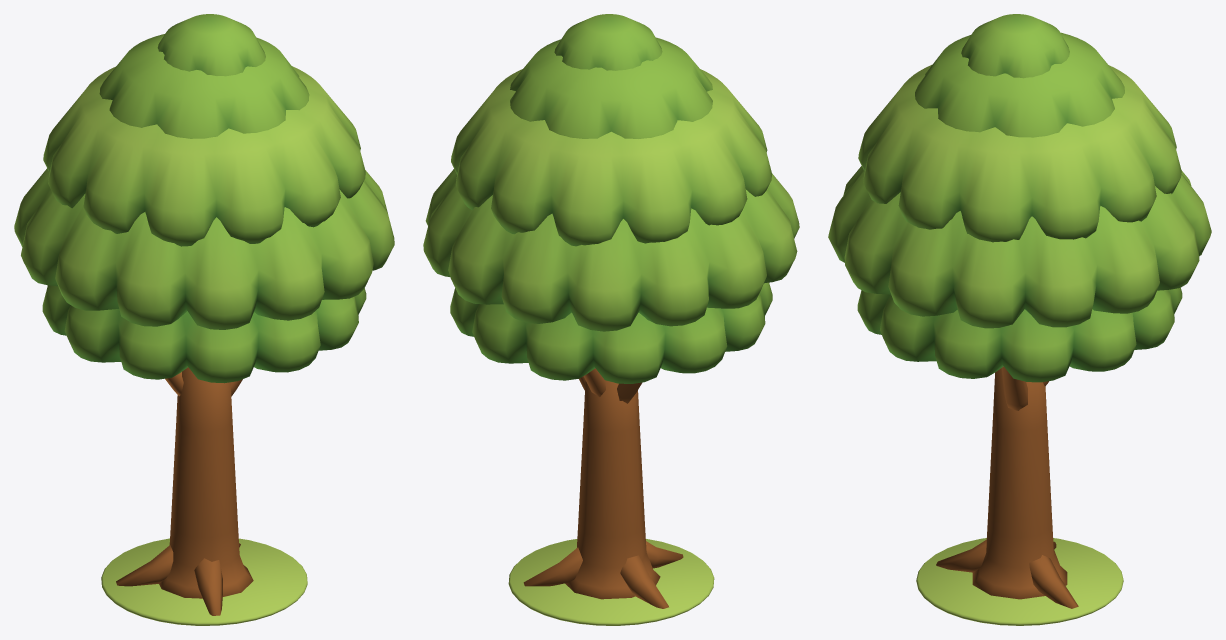
The model's file is round-tree-large.glb.
3 renders of one model, left to right at view 1: azimuth 30°, elevation 25°; view 2: azimuth 150°, elevation 25°; view 3: azimuth 270°, elevation 25°, orthographic.
Parts seen in each view (by area): view 1: body, base_disc; view 2: body, base_disc; view 3: body, base_disc.
Part boxes in pixels (x1,y1,x2,y2): body: [14, 14, 394, 615]; base_disc: [101, 538, 307, 625]; body: [423, 14, 799, 608]; base_disc: [508, 539, 714, 625]; body: [828, 14, 1211, 608]; base_disc: [916, 538, 1123, 625].
Bounding box in the file's own units: 3.47 × 5.75 × 3.52.
